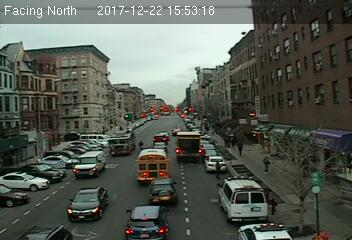car: (125, 205, 171, 240), (67, 186, 109, 223), (146, 178, 179, 205), (206, 156, 227, 172)
pedestrian: (261, 154, 271, 175), (237, 141, 244, 158)
police: (216, 175, 271, 226)
truck: (136, 147, 168, 184), (71, 149, 107, 177), (175, 131, 202, 163), (107, 128, 136, 154)
